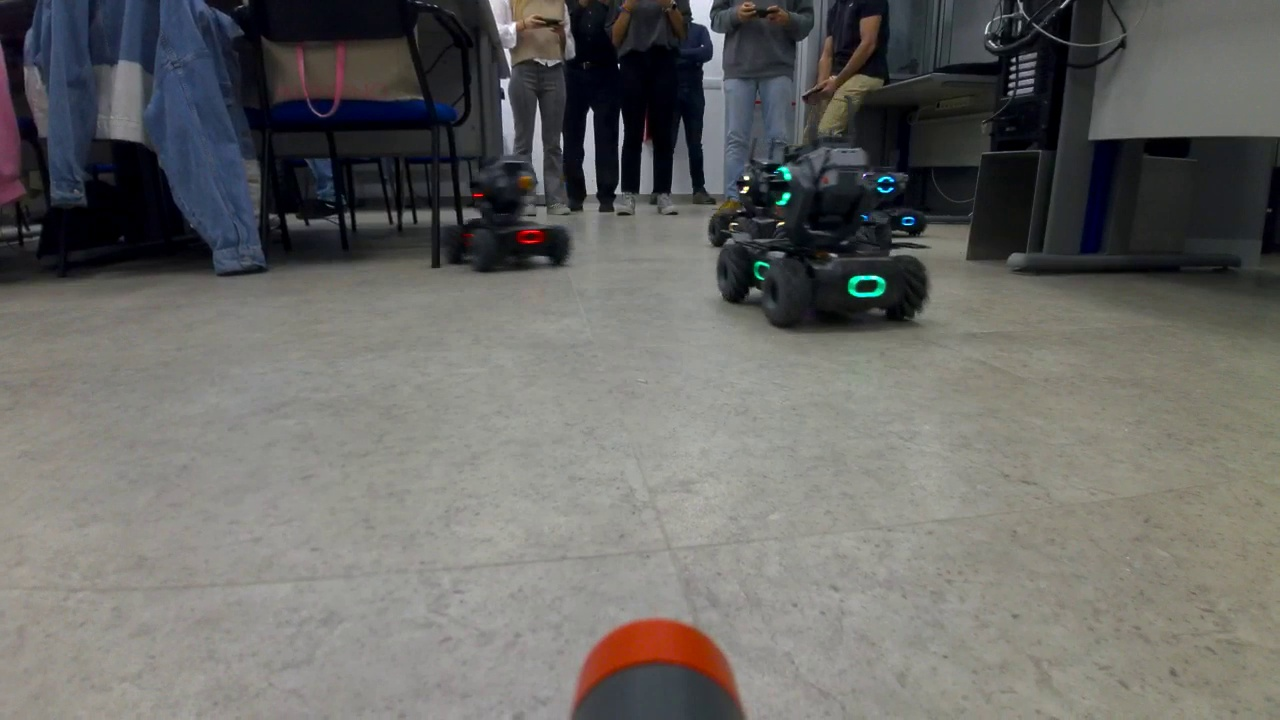robot: (712, 137, 929, 336), (446, 154, 573, 278), (862, 170, 930, 235)
